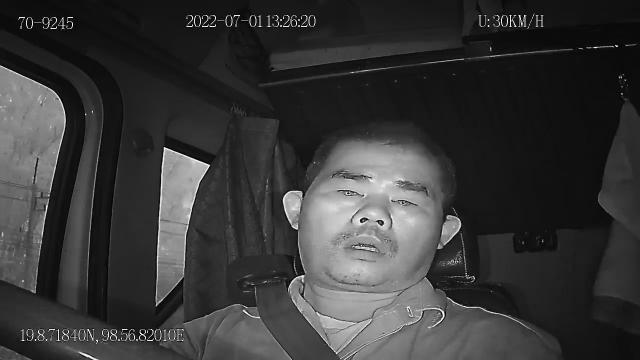SafeDriving: (324, 176, 374, 206), (384, 187, 426, 216)
Seatbelt: (235, 250, 352, 360)
